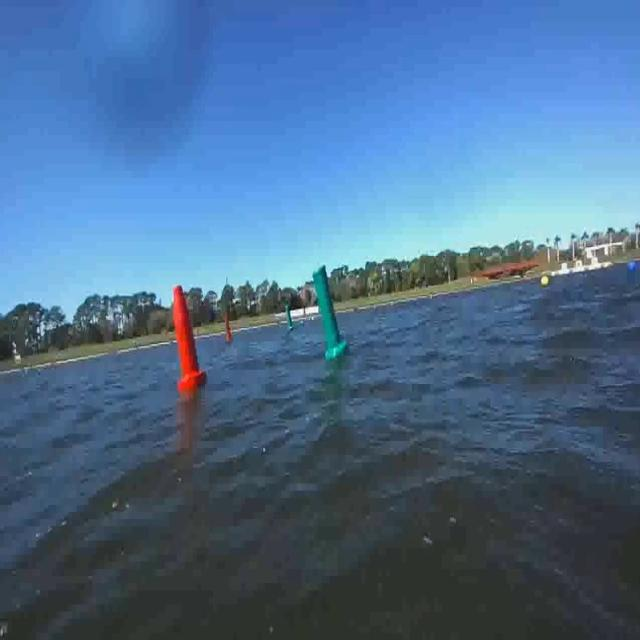blue-buoy: (628, 261, 638, 279)
green-column-buoy: (310, 264, 349, 359), (285, 304, 294, 328)
red-column-buoy: (169, 285, 206, 392), (223, 314, 233, 344)
yellow-buoy: (539, 274, 549, 290)
